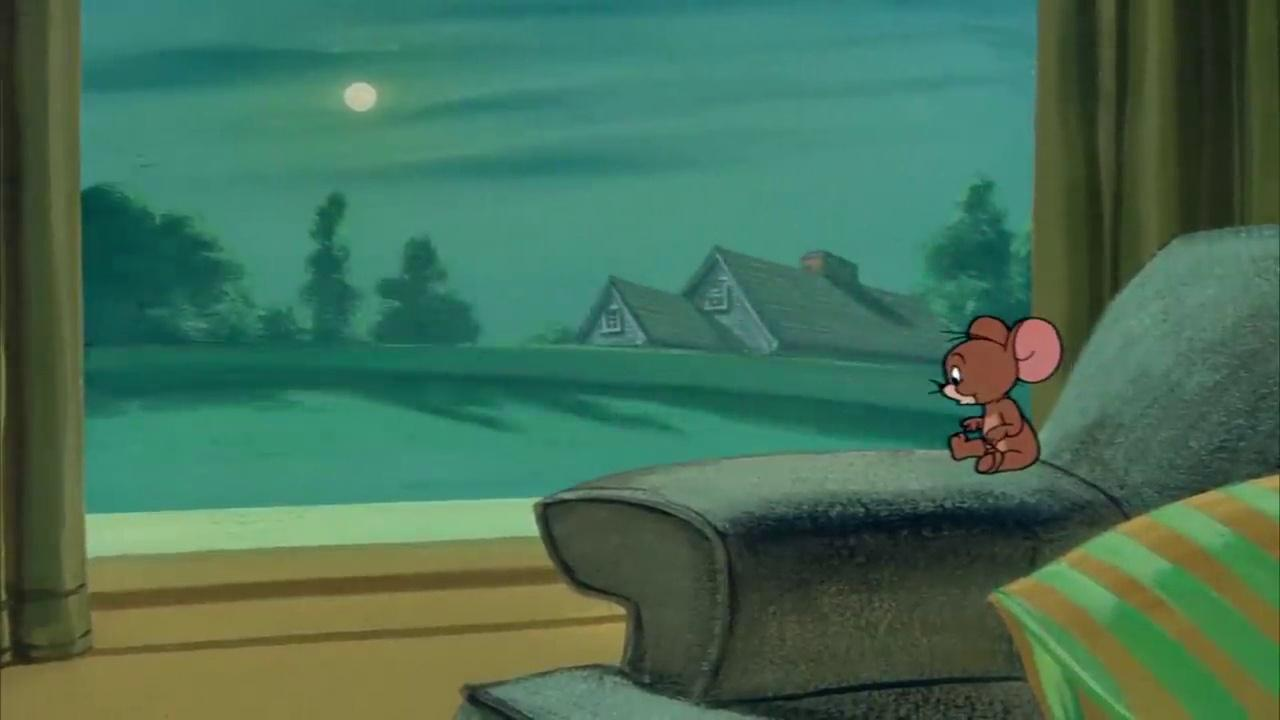Jerry: (922, 313, 1065, 475)
